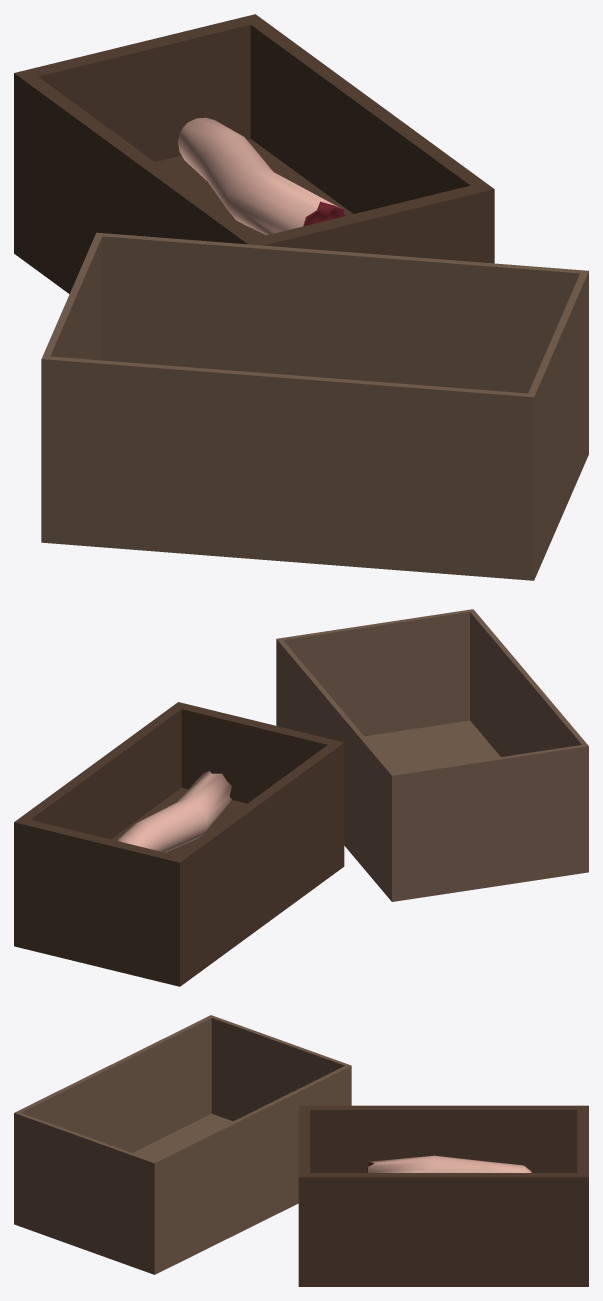
Rendered from S_LittleBoxOpened.fbx.
3 views of the same model, one above another, from view 1: azimuth 30°, elevation 25°; view 2: azimuth 150°, elevation 25°; view 3: azimuth 270°, elevation 25° (orthographic). The views are drawn at different scales.
Parts seen in each view (by area): view 1: S_LittleBoxOpened, S_Finger; view 2: S_LittleBoxOpened, S_Finger; view 3: S_LittleBoxOpened, S_Finger.
Boxes of the visible parts, left/top/right/bottom form: S_LittleBoxOpened: left=14, top=14, right=588, bottom=580; S_Finger: left=178, top=117, right=344, bottom=235; S_LittleBoxOpened: left=14, top=609, right=588, bottom=986; S_Finger: left=117, top=771, right=231, bottom=852; S_LittleBoxOpened: left=14, top=1015, right=588, bottom=1286; S_Finger: left=366, top=1155, right=531, bottom=1172.
Size of the model in its own units: 27.4 by 9.55 by 42.79.
